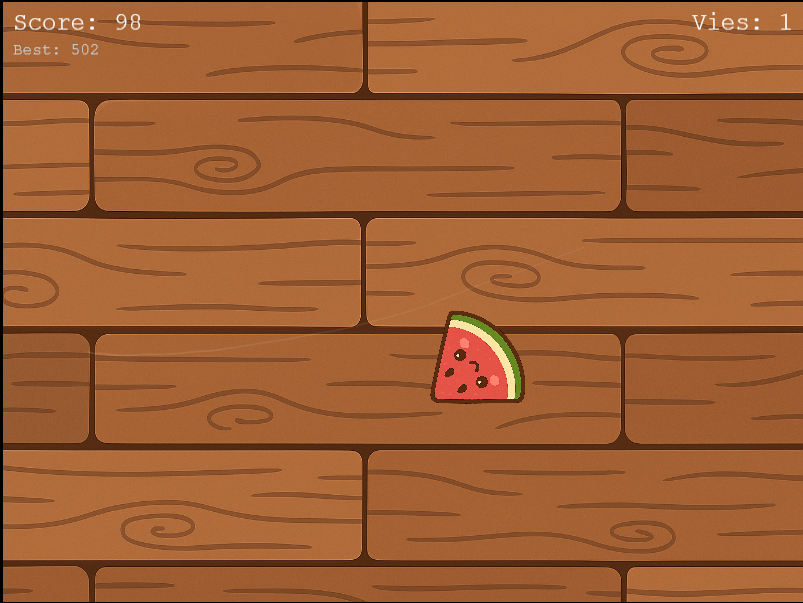fruit: (425, 308, 531, 411)
